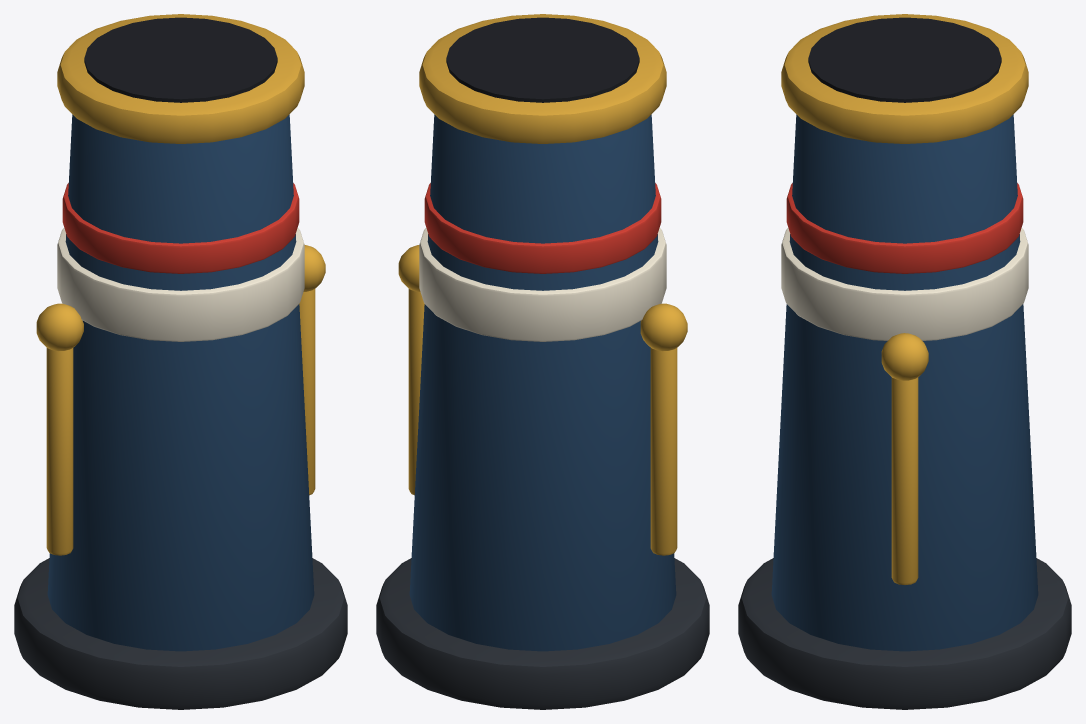
File: ShipFunnel.glb
3 views of the same model, side by side, from view 1: azimuth 30°, elevation 25°; view 2: azimuth 150°, elevation 25°; view 3: azimuth 270°, elevation 25° (orthographic).
Parts seen in each view (by area): view 1: ShipFunnel; view 2: ShipFunnel; view 3: ShipFunnel.
Boxes of the visible parts, box(x1,y1,x2,y2) form: ShipFunnel: box(14, 14, 347, 709); ShipFunnel: box(376, 14, 709, 709); ShipFunnel: box(738, 14, 1071, 709).
Bounding box in the file's own units: 1.24 × 2.41 × 1.24.
